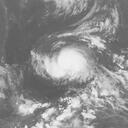cyclone: (56, 45, 94, 81)
